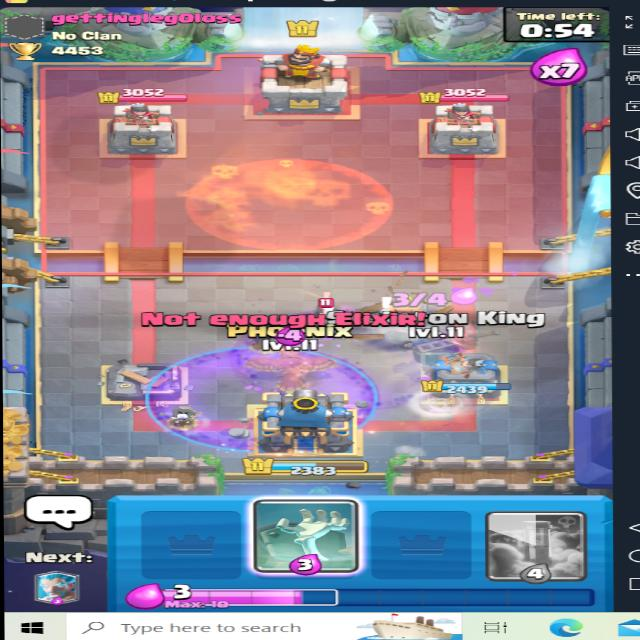poison: (181, 152, 391, 253)
